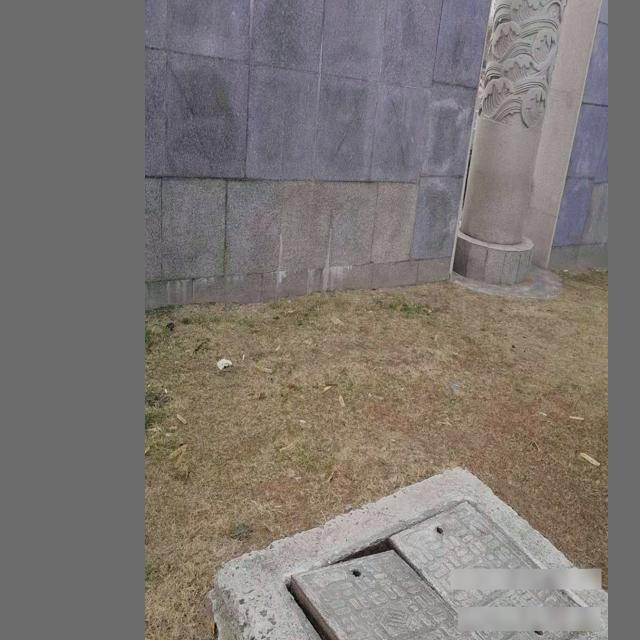uncovered: (305, 488, 476, 640)
